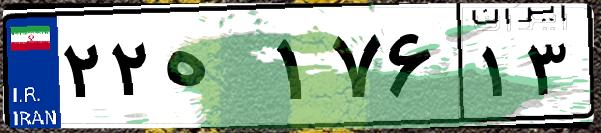1: (270, 28, 330, 110), (475, 38, 525, 113)
2: (57, 26, 110, 100), (110, 28, 158, 98)
3: (525, 38, 570, 115)
6: (385, 28, 445, 110)
7: (330, 28, 385, 110)
ه: (158, 20, 270, 120)
